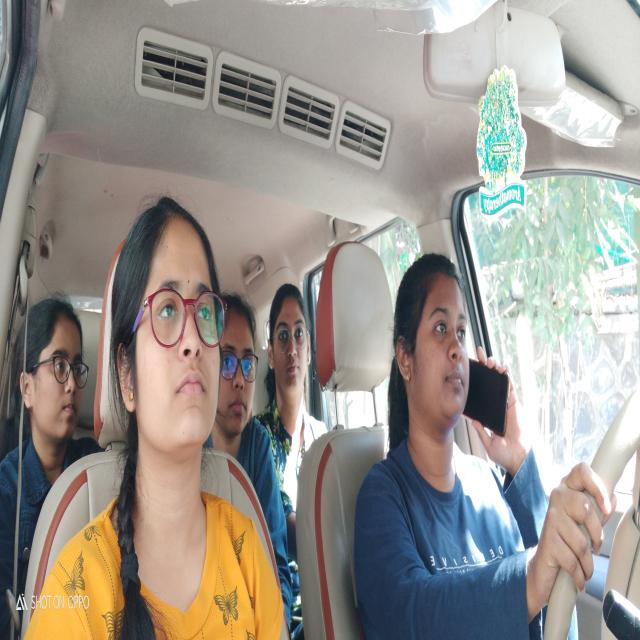mobile: (467, 340, 511, 441)
person: (110, 196, 227, 502), (392, 247, 470, 472), (18, 294, 88, 449), (220, 284, 261, 444), (266, 276, 310, 414)
